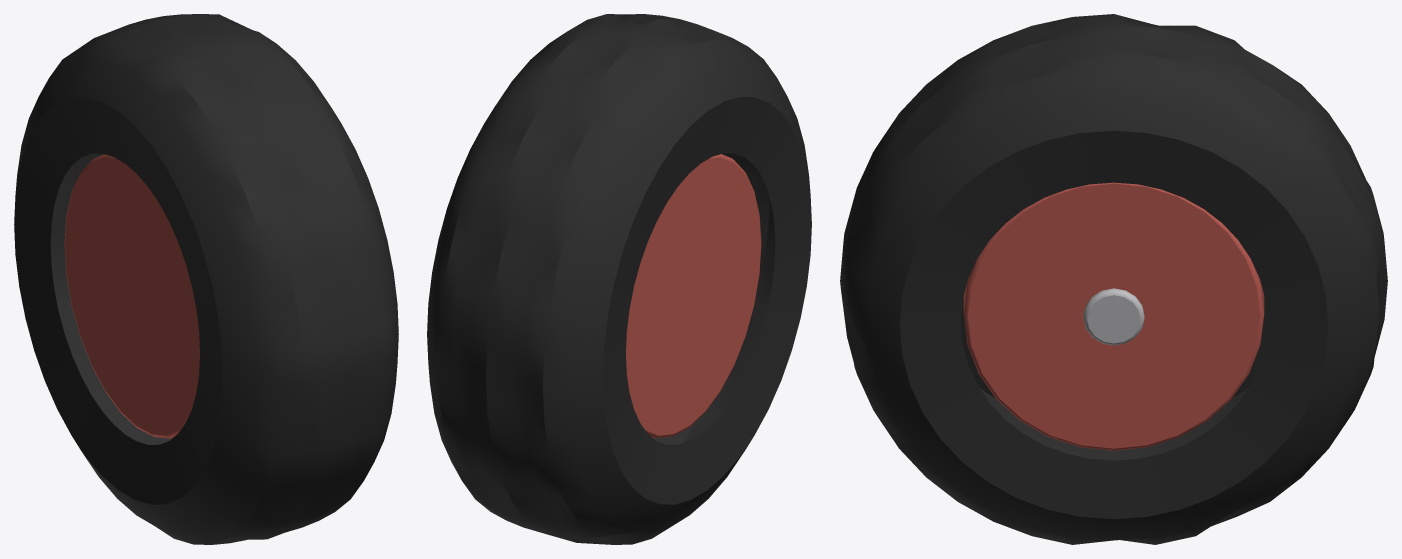
File: wheel_truck.glb
The picture shows the model from 3 angles, left to right: view 1: azimuth 30°, elevation 25°; view 2: azimuth 150°, elevation 25°; view 3: azimuth 270°, elevation 25°; orthographic projection. The views are drawn at different scales.
Parts seen in each view (by area): view 1: wheel_truck; view 2: wheel_truck; view 3: wheel_truck.
Boxes of the visible parts, left/top/right/bottom form: wheel_truck: left=14, top=14, right=398, bottom=544; wheel_truck: left=427, top=14, right=811, bottom=544; wheel_truck: left=840, top=14, right=1387, bottom=544.
Bounding box in the file's own units: 0.26 × 0.6829 × 0.684.
